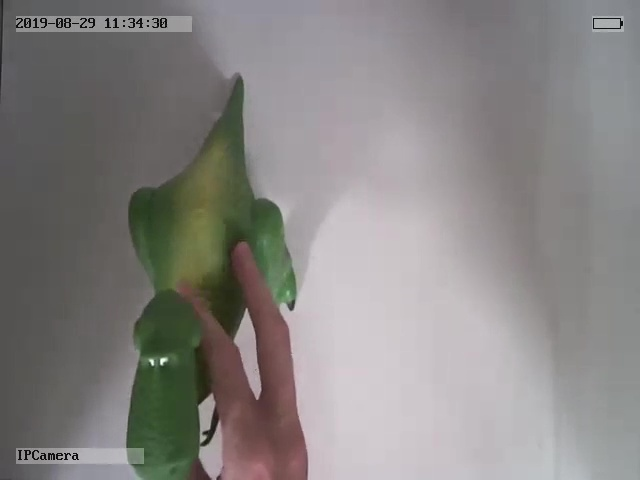rex: (124, 74, 298, 480)
